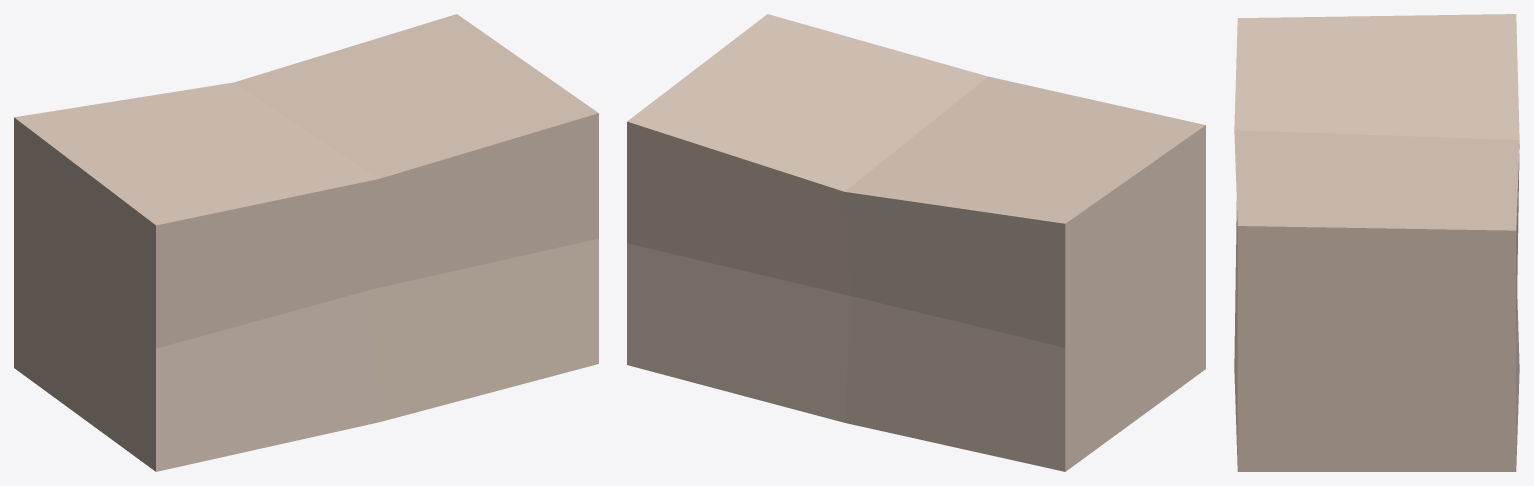
3 renders of one model, left to right at view 1: azimuth 30°, elevation 25°; view 2: azimuth 150°, elevation 25°; view 3: azimuth 270°, elevation 25°, orthographic.
Visible parts, largest first — view 1: Box_01; view 2: Box_01; view 3: Box_01.
Part boxes in pixels (x1,y1,x2,y2): Box_01: (14,14,598,471); Box_01: (627,14,1205,471); Box_01: (1234,14,1519,471).
Size of the model in its own units: 12.12 by 6.64 by 6.89.
